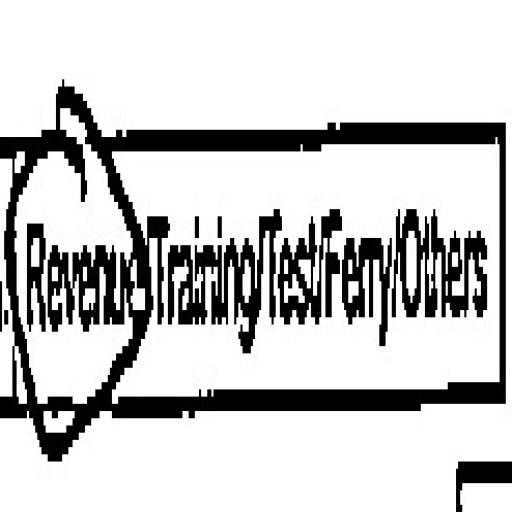check: (6, 50, 154, 500)
